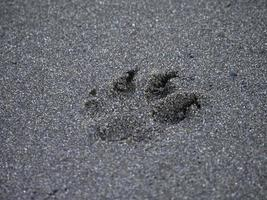chien: (83, 65, 203, 148)
